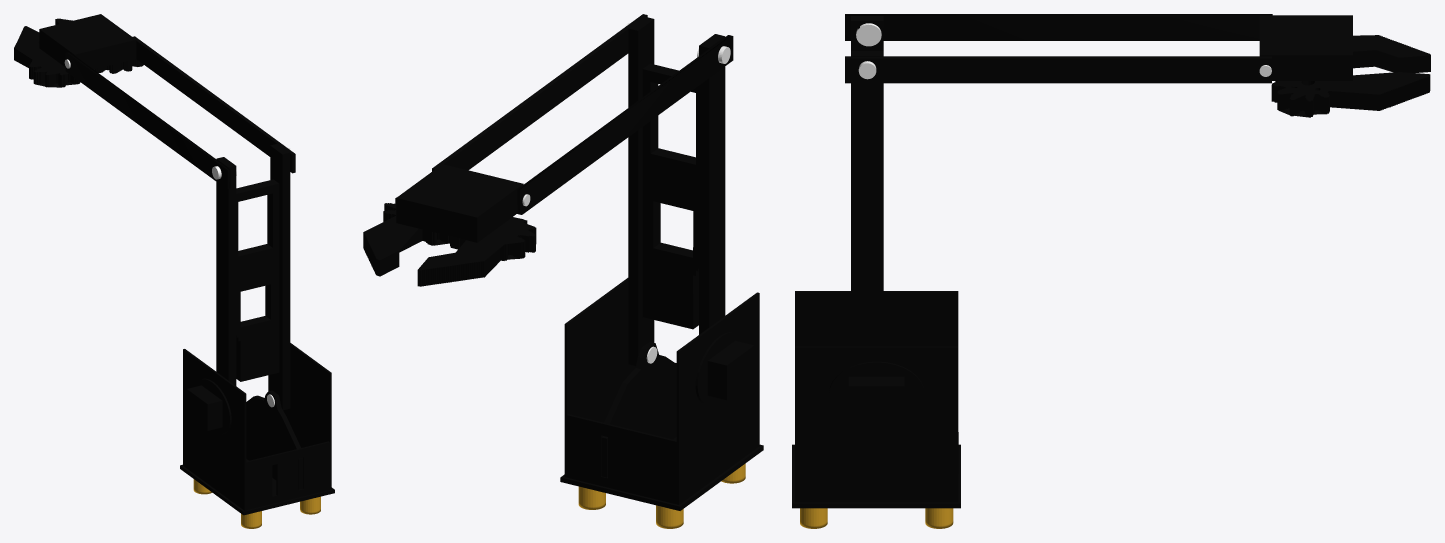
File: good Point3.fbx
3 renders of one model, left to right at view 1: azimuth 30°, elevation 25°; view 2: azimuth 150°, elevation 25°; view 3: azimuth 270°, elevation 25°, orthographic. The views are drawn at different scales.
Visible parts, largest first — view 1: Rotator, Base Main Arm, Pincher Square, Top Left Long Joint, Top Right Long Joint, Pincher Left, Base.001, Pincher Right; view 2: Rotator, Base Main Arm, Pincher Square, Top Left Long Joint, Top Right Long Joint, Pincher Left, Base.001, Pincher Right; view 3: Rotator, Top Right Long Joint, Top Left Long Joint, Base Main Arm, Pincher Square, Pincher Right, Base.001, Pincher Left.
Part boxes in pixels (box(x1,y1,x2,y2)): Rotator: box(183, 343, 331, 510); Base Main Arm: box(216, 143, 290, 410); Pincher Square: box(39, 14, 136, 69); Top Left Long Joint: box(65, 52, 230, 188); Top Right Long Joint: box(133, 36, 295, 173); Pincher Left: box(14, 26, 80, 87); Base.001: box(180, 459, 334, 528); Pincher Right: box(55, 18, 143, 73); Rotator: box(564, 278, 759, 504); Base Main Arm: box(628, 16, 725, 365); Pincher Square: box(396, 164, 523, 242); Top Left Long Joint: box(517, 35, 733, 214); Top Right Long Joint: box(432, 14, 647, 171); Pincher Left: box(417, 217, 536, 286); Base.001: box(560, 437, 763, 528); Pincher Right: box(363, 197, 449, 276); Rotator: box(795, 291, 958, 502); Top Right Long Joint: box(845, 56, 1271, 83); Top Left Long Joint: box(845, 14, 1272, 40); Base Main Arm: box(851, 16, 883, 346); Pincher Square: box(1259, 15, 1352, 80); Pincher Right: box(1271, 72, 1430, 117); Base.001: box(792, 444, 960, 528); Pincher Left: box(1353, 35, 1430, 72).
Size of the model in its own units: 1356 by 3666 by 4581.
